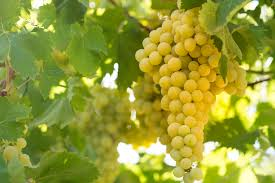grapes: (141, 11, 234, 176)
